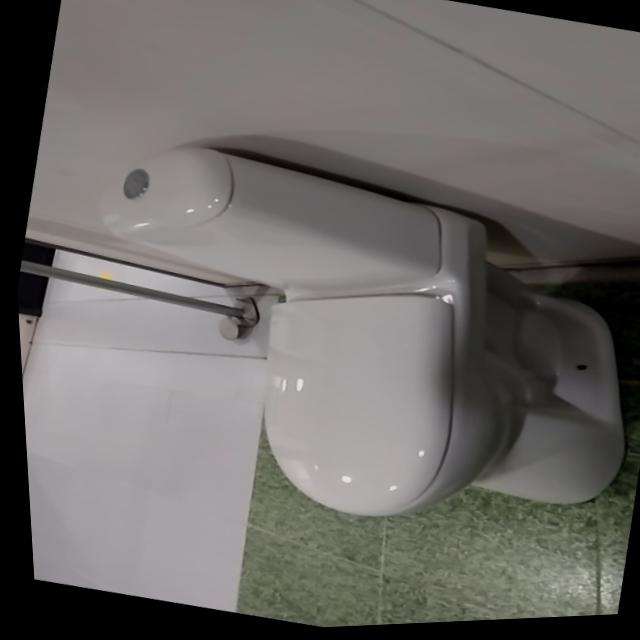toilet: (40, 113, 640, 582)
